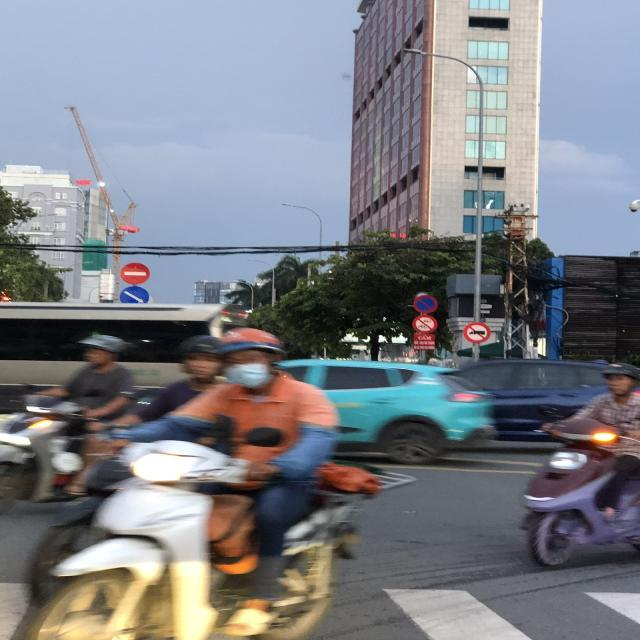Bien bao cam di nguoc chieu: (119, 262, 148, 284)
Bien bao cam do xe: (411, 294, 439, 315)
Bien bao cam xe so-mi ro-mooc: (463, 320, 492, 343)
Bien bao huong phai di vong chuong ngai vat: (115, 284, 150, 305)
